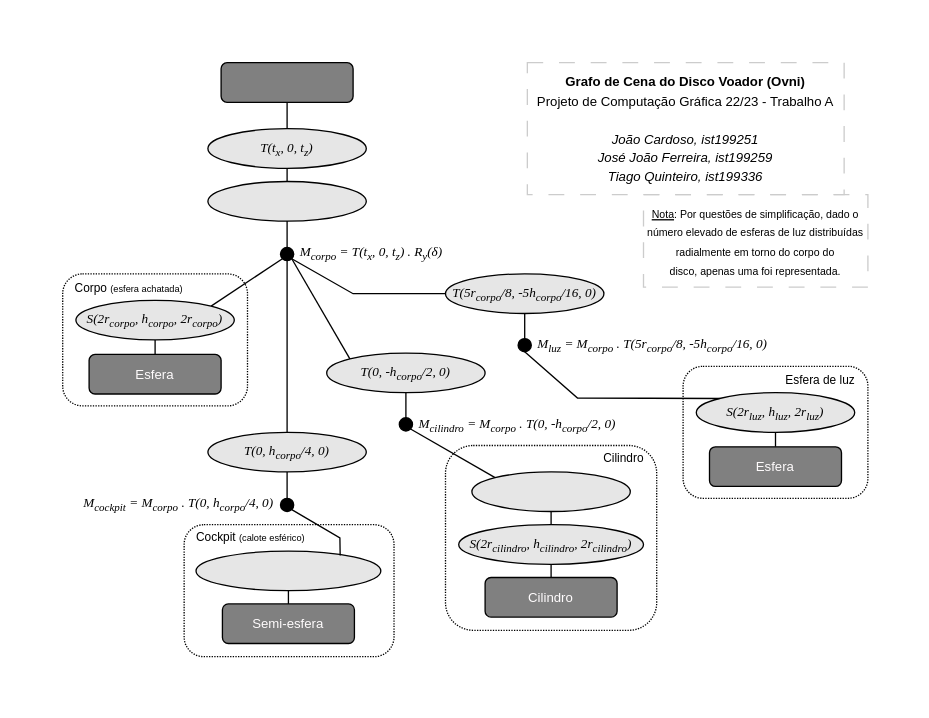
This 929x718 diagram has some shape labels left out. Here are the shapes that lost their labels. From the top down, the centre of each, then its label:
the point at 286,81: UFO
the point at 286,200: R y ( δ)
the point at 550,491: T(0 , -h cilindro /4, 0 )
the point at 288,570: S(2r cockpit , h cockpit , 2r cockpit )
